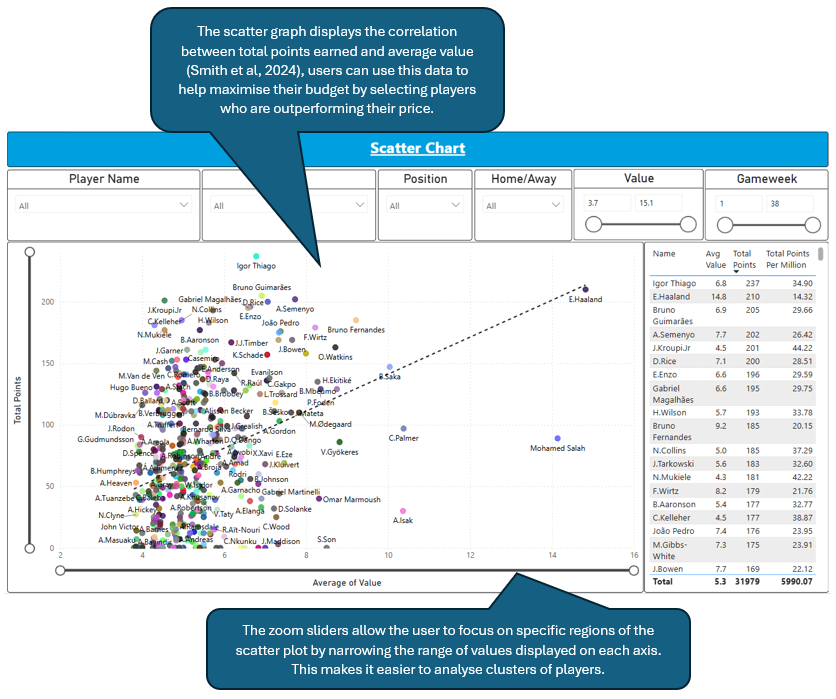

Layout of this report page (visuals, bound fields, positions):
{"tool":"powerbi","page":{"name":"Scatter Chart","canvas":[1280,720],"ordinal":2},"visuals":[{"type":"group","id":"g1","title":"Group 1","box":[0,58.2,1280,112.9],"z":0},{"type":"textbox","box":[0,0,1280,55.6],"z":1000},{"type":"slicer","title":"Team","fields":{"Values":["FPL_predicted_point.team"]},"box":[303.9,60,271.6,111.1],"z":1000,"group":"g1"},{"type":"slicer","title":"Position","fields":{"Values":["FPL_predicted_point.position","FPL_predicted_point.name"]},"box":[578.2,60,147,110.3],"z":2000,"group":"g1"},{"type":"scatterChart","fields":{"Y":["FPL_predicted_point.Sum_actual/predicted_points"],"X":["Avg(FPL_predicted_point.Value)"],"Series":["FPL_predicted_point.Report_name"]},"box":[0,171.8,992.1,547.5],"z":2000},{"type":"slicer","title":"Gameweek","fields":{"Values":["FPL_predicted_point.GW"]},"box":[1088.2,59.1,191.8,110.3],"z":3000,"group":"g1"},{"type":"tableEx","fields":{"Values":["FPL_predicted_point.Report_name","Avg(FPL_predicted_point.Value)","Sum(FPL_predicted_point.Actual/Predicted Points)","Sum(FPL_predicted_point.Points Per Million)"]},"box":[992.1,171.8,287.9,547.5],"z":3001},{"type":"slicer","title":"Value","fields":{"Values":["FPL_predicted_point.value"]},"box":[882.9,58.2,202.6,111.1],"z":4000,"group":"g1"},{"type":"slicer","title":"Home/Away","fields":{"Values":["FPL_predicted_point.Home/Away"]},"box":[727.8,59.1,152.4,111.1],"z":5000,"group":"g1"},{"type":"slicer","title":"Player Name","fields":{"Values":["FPL_predicted_point.name"]},"box":[0,60,301.2,111.1],"z":6000,"group":"g1"}]}

Visuals, with their boxes on the page's 1280x720 design canvas (x1, y1, x2, y2). These are canvas units, not pixel positions in the 836x699 screenshot, which may show the page scaled, cropped or inside an application window:
"Group 1" group: <region>0, 58, 1280, 171</region>
textbox: <region>0, 0, 1280, 56</region>
"Team" slicer: <region>304, 60, 576, 171</region>
"Position" slicer: <region>578, 60, 725, 170</region>
scatterChart - FPL_predicted_point.Sum_actual/predicted_points x Avg(FPL_predicted_point.Value): <region>0, 172, 992, 719</region>
"Gameweek" slicer: <region>1088, 59, 1280, 169</region>
tableEx - FPL_predicted_point.Report_name x Avg(FPL_predicted_point.Value): <region>992, 172, 1280, 719</region>
"Value" slicer: <region>883, 58, 1086, 169</region>
"Home/Away" slicer: <region>728, 59, 880, 170</region>
"Player Name" slicer: <region>0, 60, 301, 171</region>
